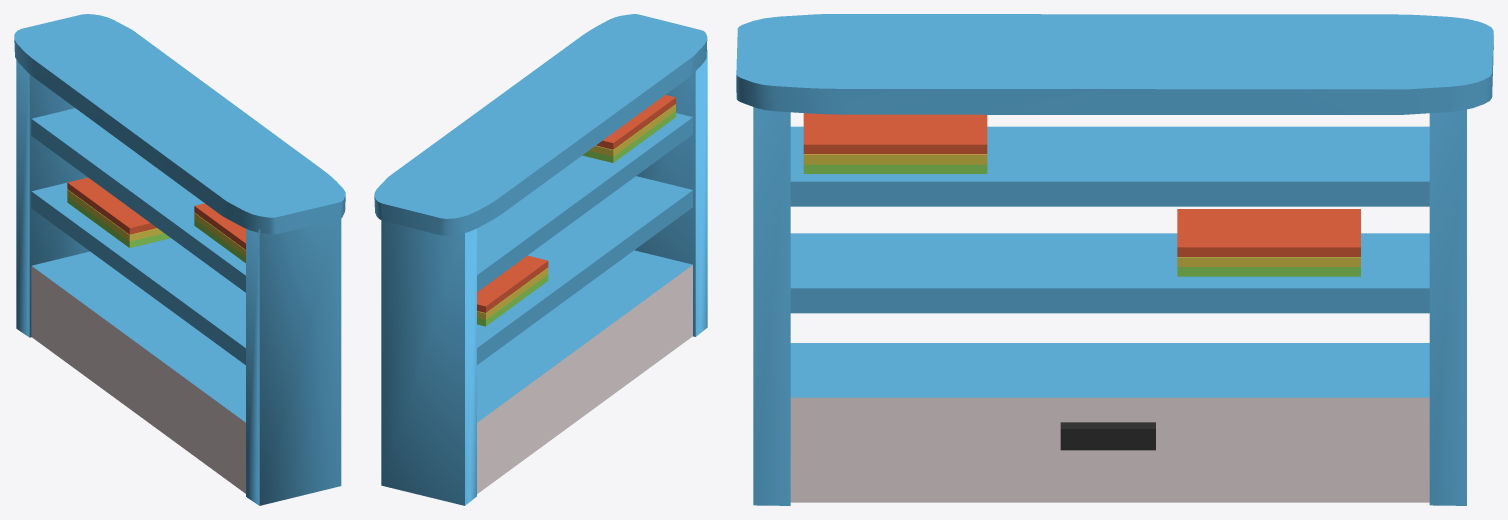
Rendered from shelf.fbx.
The picture shows the model from 3 angles, left to right: view 1: azimuth 30°, elevation 25°; view 2: azimuth 150°, elevation 25°; view 3: azimuth 270°, elevation 25°; orthographic projection. The views are drawn at different scales.
Visible parts, largest first — view 1: table.005; view 2: table.005; view 3: table.005.
Boxes of the visible parts, x1,y1,x2,y2 form: table.005: (14,14,345,505); table.005: (374,14,707,505); table.005: (736,14,1493,505).
Size of the model in its own units: 1.06 by 2.74 by 4.41.
